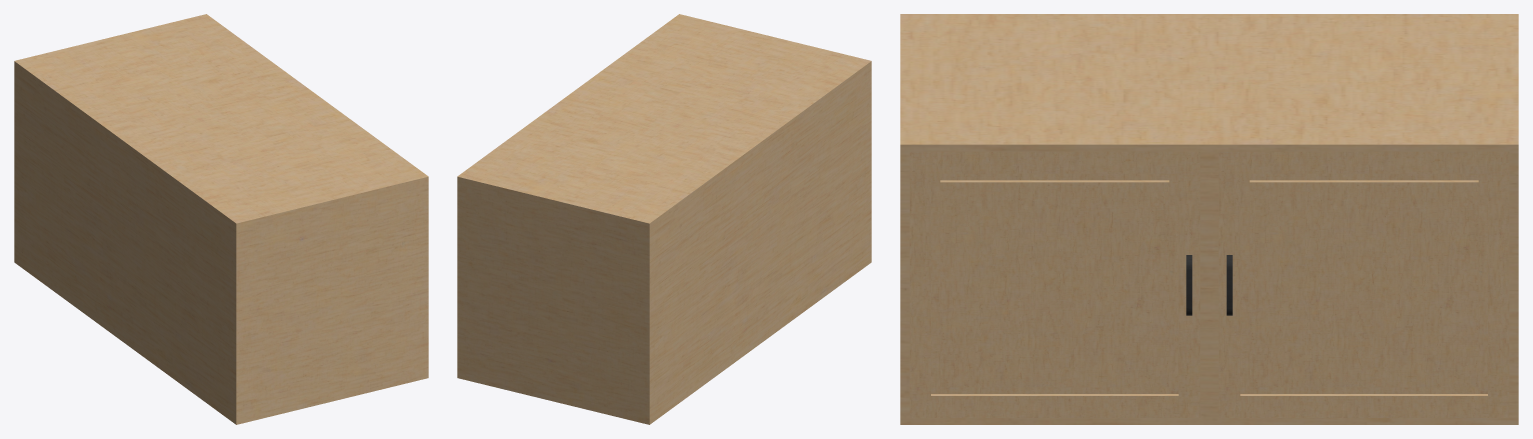
The model's file is wall_cabinet.glb.
The picture shows the model from 3 angles, left to right: view 1: azimuth 30°, elevation 25°; view 2: azimuth 150°, elevation 25°; view 3: azimuth 270°, elevation 25°; orthographic projection. The views are drawn at different scales.
Visible parts, largest first — view 1: wall_cabinet; view 2: wall_cabinet; view 3: wall_cabinet, hatch_1, hatch_2.
Boxes of the visible parts, left/top/right/bottom form: wall_cabinet: left=14, top=14, right=428, bottom=424; wall_cabinet: left=457, top=14, right=871, bottom=424; wall_cabinet: left=900, top=14, right=1518, bottom=424; hatch_1: left=909, top=151, right=1200, bottom=417; hatch_2: left=1218, top=151, right=1509, bottom=417.
Bounding box in the file's own units: 1.03 × 1 × 2.
Materials: 2 (2 with a texture image).
